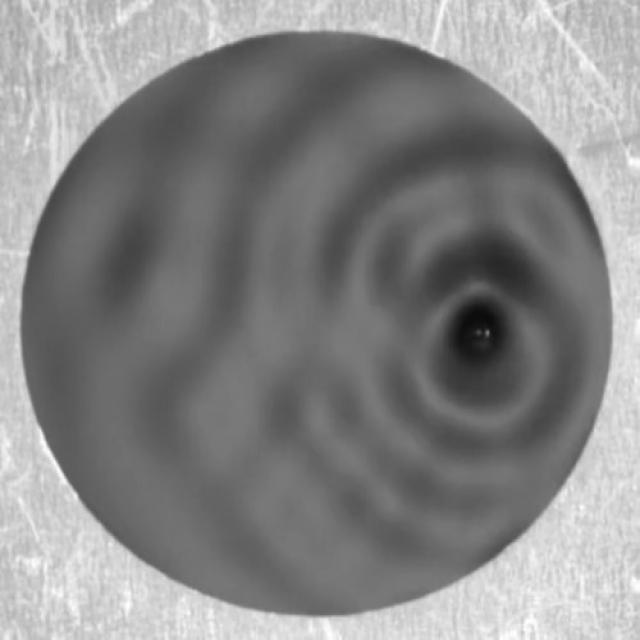droplet: (462, 316, 498, 358)
